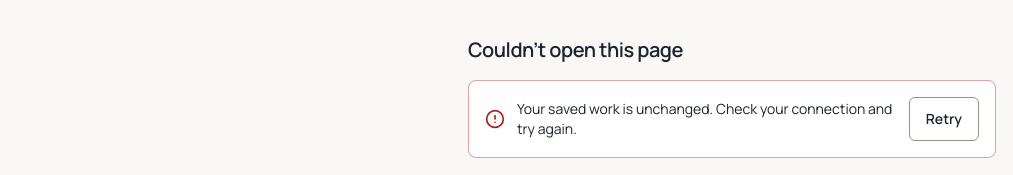
Scenario: read-only route readiness failures › turns a failed initial read into a useful retry and can open the destination after recovery
Later steps or results of the test are not shown.
Check: the heading "Couldn’t open this page" is shown, box [468,36,683,63]
Check: the message shows "Your saved work is unchanged", box [517,99,892,138]
Click the button "Retry": click(944, 119) [909,97,979,141]
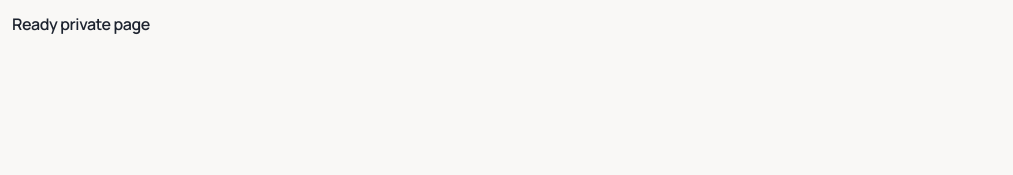
Check: the heading "Ready private page" is shown, box [12,13,150,35]
